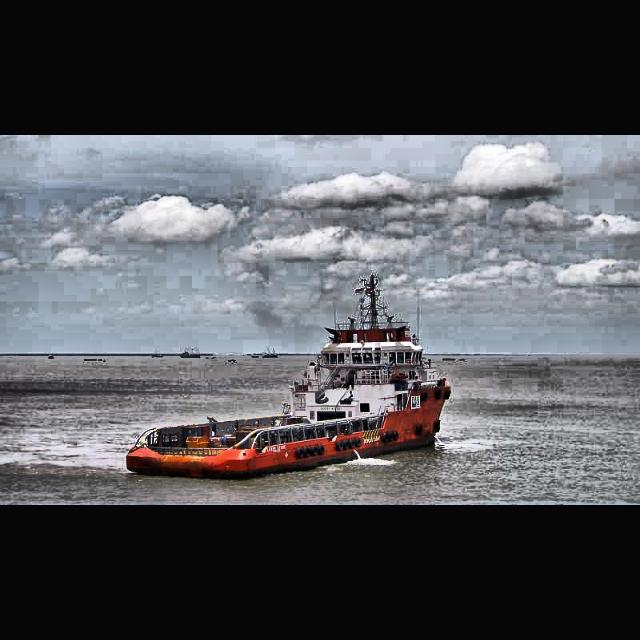anchor_handling_tug_supply: (125, 302, 452, 483)
